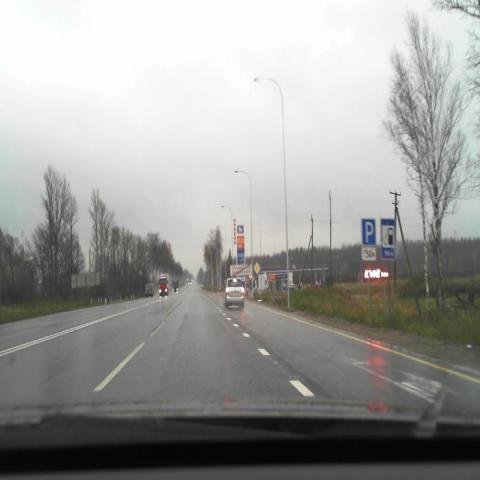6_4: (361, 219, 376, 246)
7_3: (380, 218, 396, 261)
